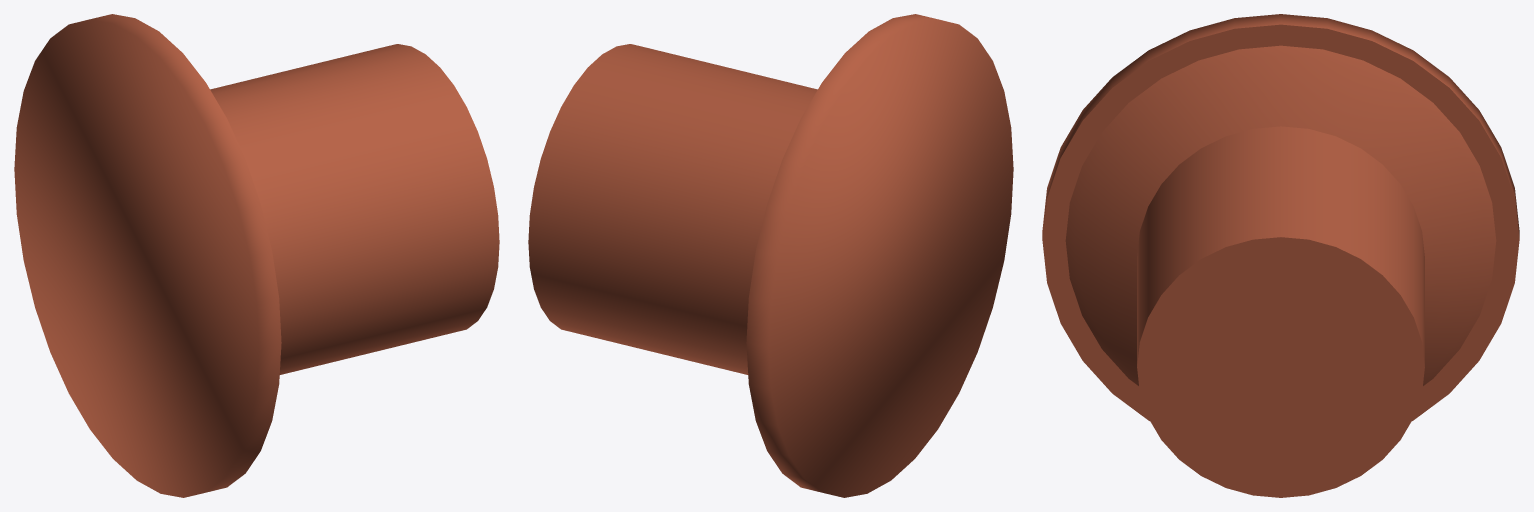
File: habbatBase.fbx
3 views of the same model, side by side, from view 1: azimuth 30°, elevation 25°; view 2: azimuth 150°, elevation 25°; view 3: azimuth 270°, elevation 25° (orthographic). The views are drawn at different scales.
Parts seen in each view (by area): view 1: Circle.001; view 2: Circle.001; view 3: Circle.001.
Boxes of the visible parts, x1,y1,x2,y2 form: Circle.001: [14, 14, 499, 497]; Circle.001: [528, 14, 1013, 497]; Circle.001: [1042, 14, 1519, 497].
Bounding box in the file's own units: 55.95 × 82.09 × 82.09.
